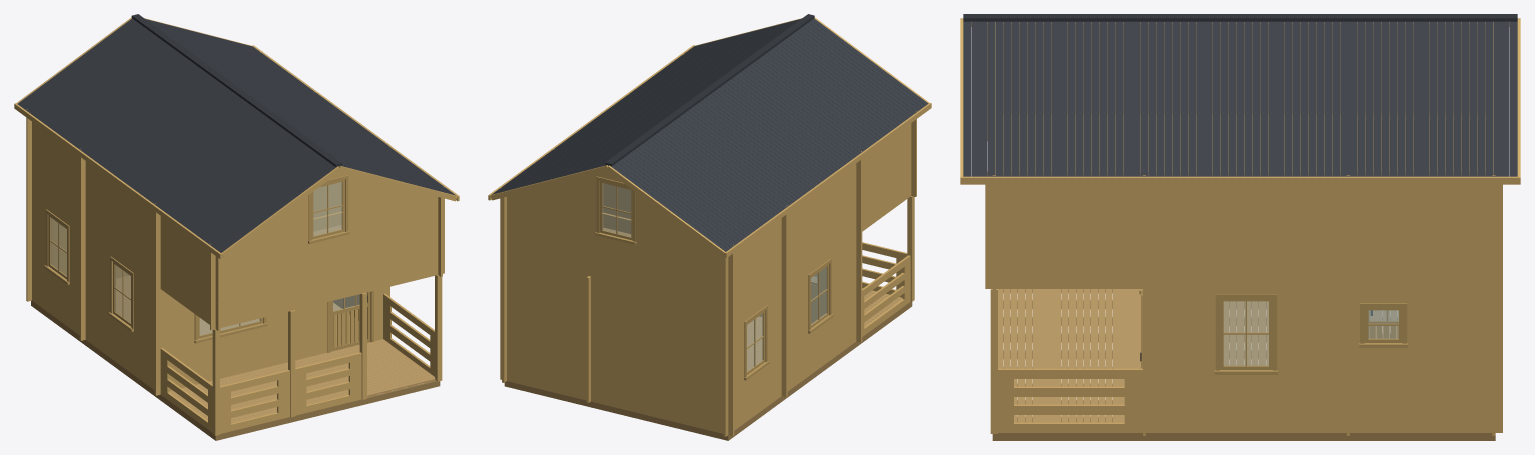
File: цезарь_5_7_44_мм_2_этажа_терраса.glb
3 views of the same model, side by side, from view 1: azimuth 30°, elevation 25°; view 2: azimuth 150°, elevation 25°; view 3: azimuth 270°, elevation 25° (orthographic). The views are drawn at different scales.
Visible parts, largest first — view 1: walls, roof, floor, Цезарь 5×7 (44 мм, 2 этажа, терраса), object 106, object 128, object 139; view 2: walls, roof, Цезарь 5×7 (44 мм, 2 этажа, терраса), object 117, floor, object 128, object 139; view 3: walls, roof, floor, Цезарь 5×7 (44 мм, 2 этажа, терраса), slab, object 150, object 161.
Boxes of the visible parts, <box> form: walls: <box>26,52,444,435</box>; roof: <box>14,14,459,259</box>; floor: <box>116,275,435,423</box>; Цезарь 5×7 (44 мм, 2 этажа, терраса): <box>31,300,440,440</box>; object 106: <box>313,182,341,235</box>; object 128: <box>51,218,66,275</box>; object 139: <box>115,265,130,322</box>; walls: <box>500,54,916,436</box>; roof: <box>488,14,931,257</box>; Цезарь 5×7 (44 мм, 2 этажа, терраса): <box>504,302,912,440</box>; object 117: <box>603,183,630,236</box>; floor: <box>747,276,902,370</box>; object 128: <box>747,314,762,371</box>; object 139: <box>811,267,826,324</box>; walls: <box>985,22,1502,435</box>; roof: <box>960,14,1520,184</box>; floor: <box>998,289,1398,422</box>; Цезарь 5×7 (44 мм, 2 этажа, терраса): <box>992,289,1495,440</box>; slab: <box>1003,114,1485,170</box>; object 150: <box>1224,301,1268,365</box>; object 161: <box>1368,310,1398,338</box>.
Bounding box in the file's own units: 5.11 × 5.26 × 7.62.
